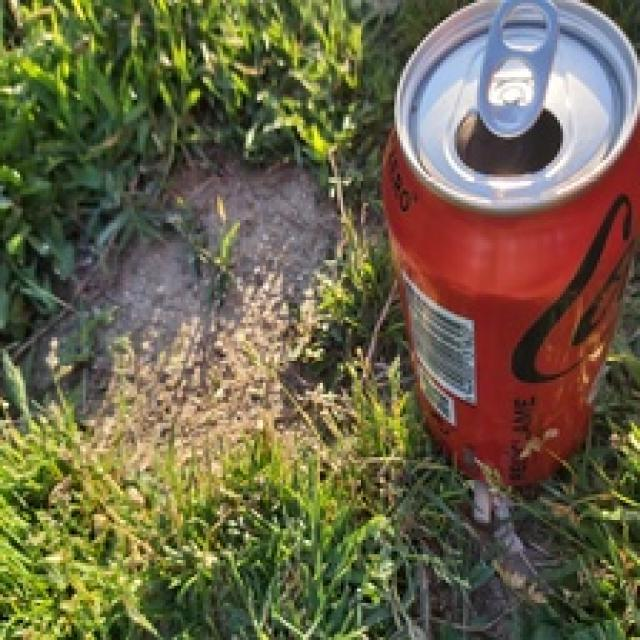recyclable: (379, 0, 640, 489)
